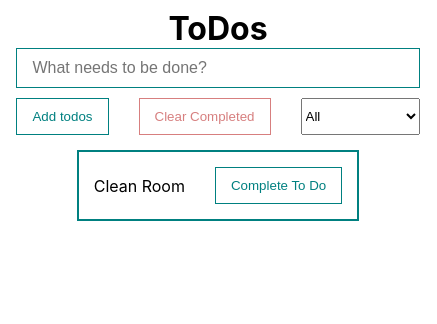
Test case: ToDoForm component › Add todo
Type "clean room" into the field with test id "input" at (218, 68), box x1=16 y1=48 x2=420 y2=88
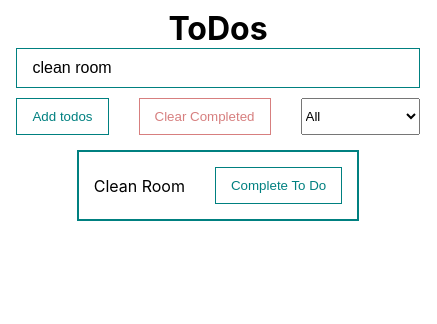
Click the button with test id "add-button" at (62, 116), box x1=16 y1=98 x2=108 y2=135
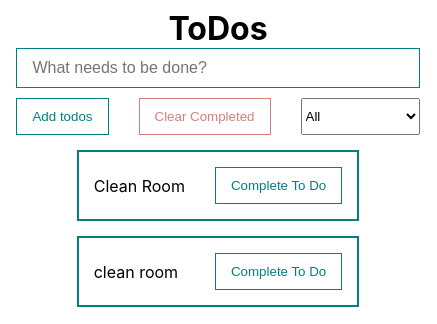
Check: the number of elements with test id "testToDoItem" is 2, box x1=77 y1=150 x2=359 y2=221; x1=77 y1=236 x2=359 y2=307
